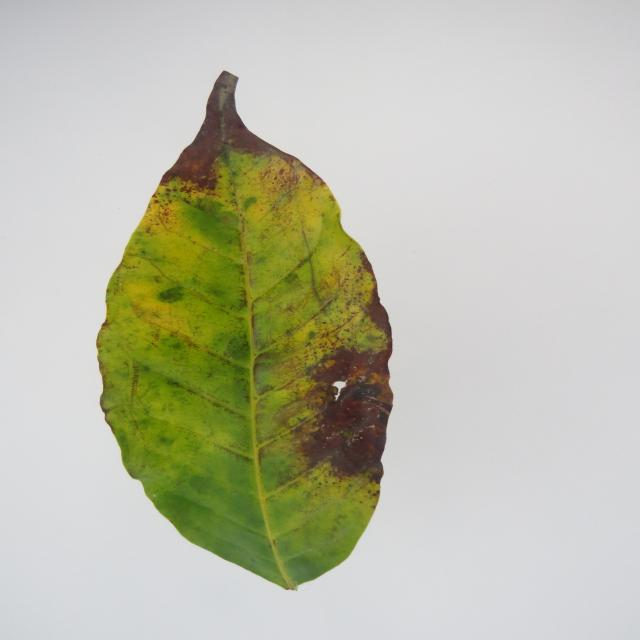DeficienciaNutricional-Potasio: (97, 72, 392, 589)
